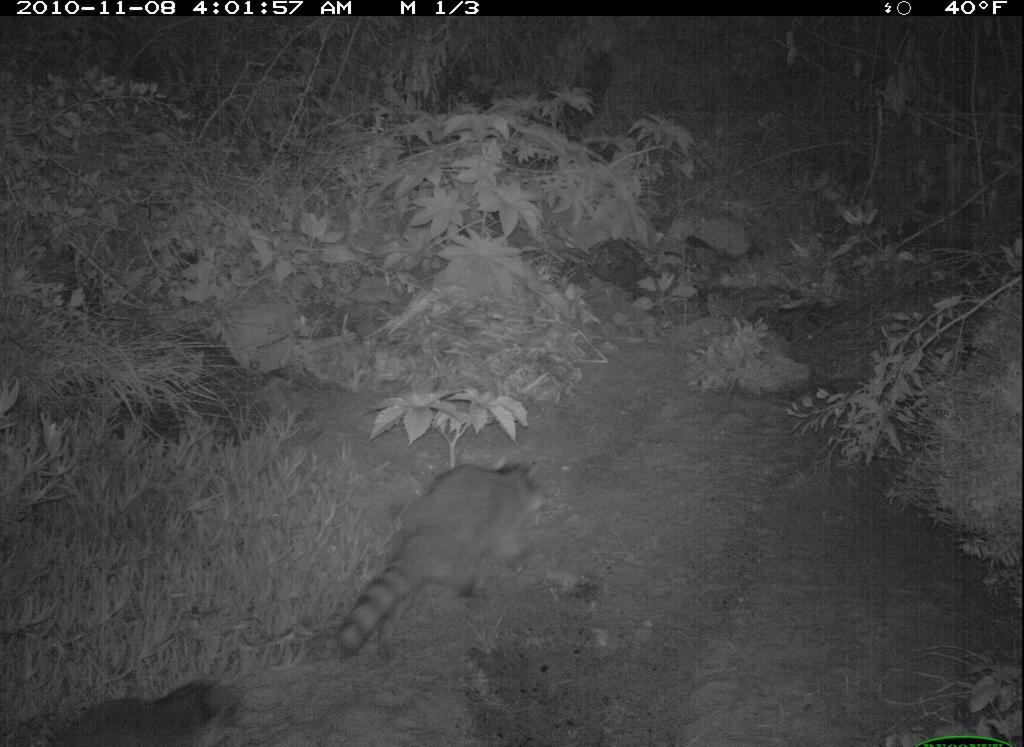raccoon: (333, 437, 559, 675)
